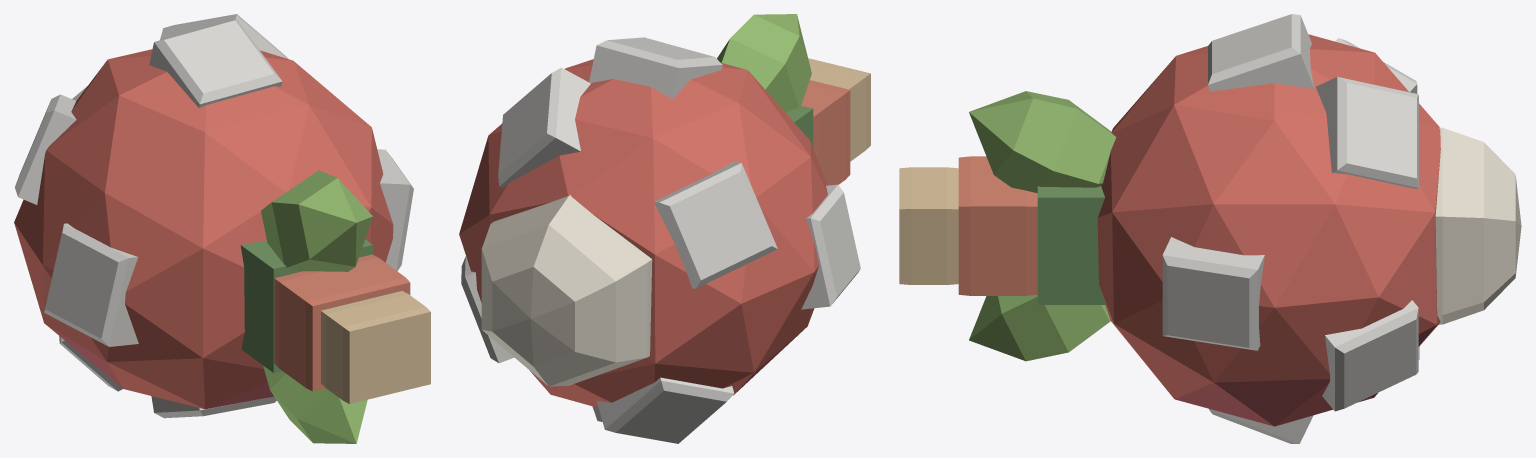
The model's file is toadstool_bolt_roblox.glb.
The picture shows the model from 3 angles, left to right: view 1: azimuth 30°, elevation 25°; view 2: azimuth 150°, elevation 25°; view 3: azimuth 270°, elevation 25°; orthographic projection. The views are drawn at different scales.
Visible parts, largest first — view 1: Bolt, Gems; view 2: Bolt, Gems; view 3: Bolt, Gems.
Part boxes in pixels (left/top/right/bottom): Bolt: left=14, top=14, right=413, bottom=443; Gems: left=72, top=86, right=430, bottom=403; Bolt: left=459, top=14, right=860, bottom=443; Gems: left=481, top=58, right=870, bottom=386; Bolt: left=969, top=14, right=1440, bottom=443; Gems: left=899, top=127, right=1521, bottom=324.
Size of the model in its own units: 0.4199 by 0.4433 by 0.63.
